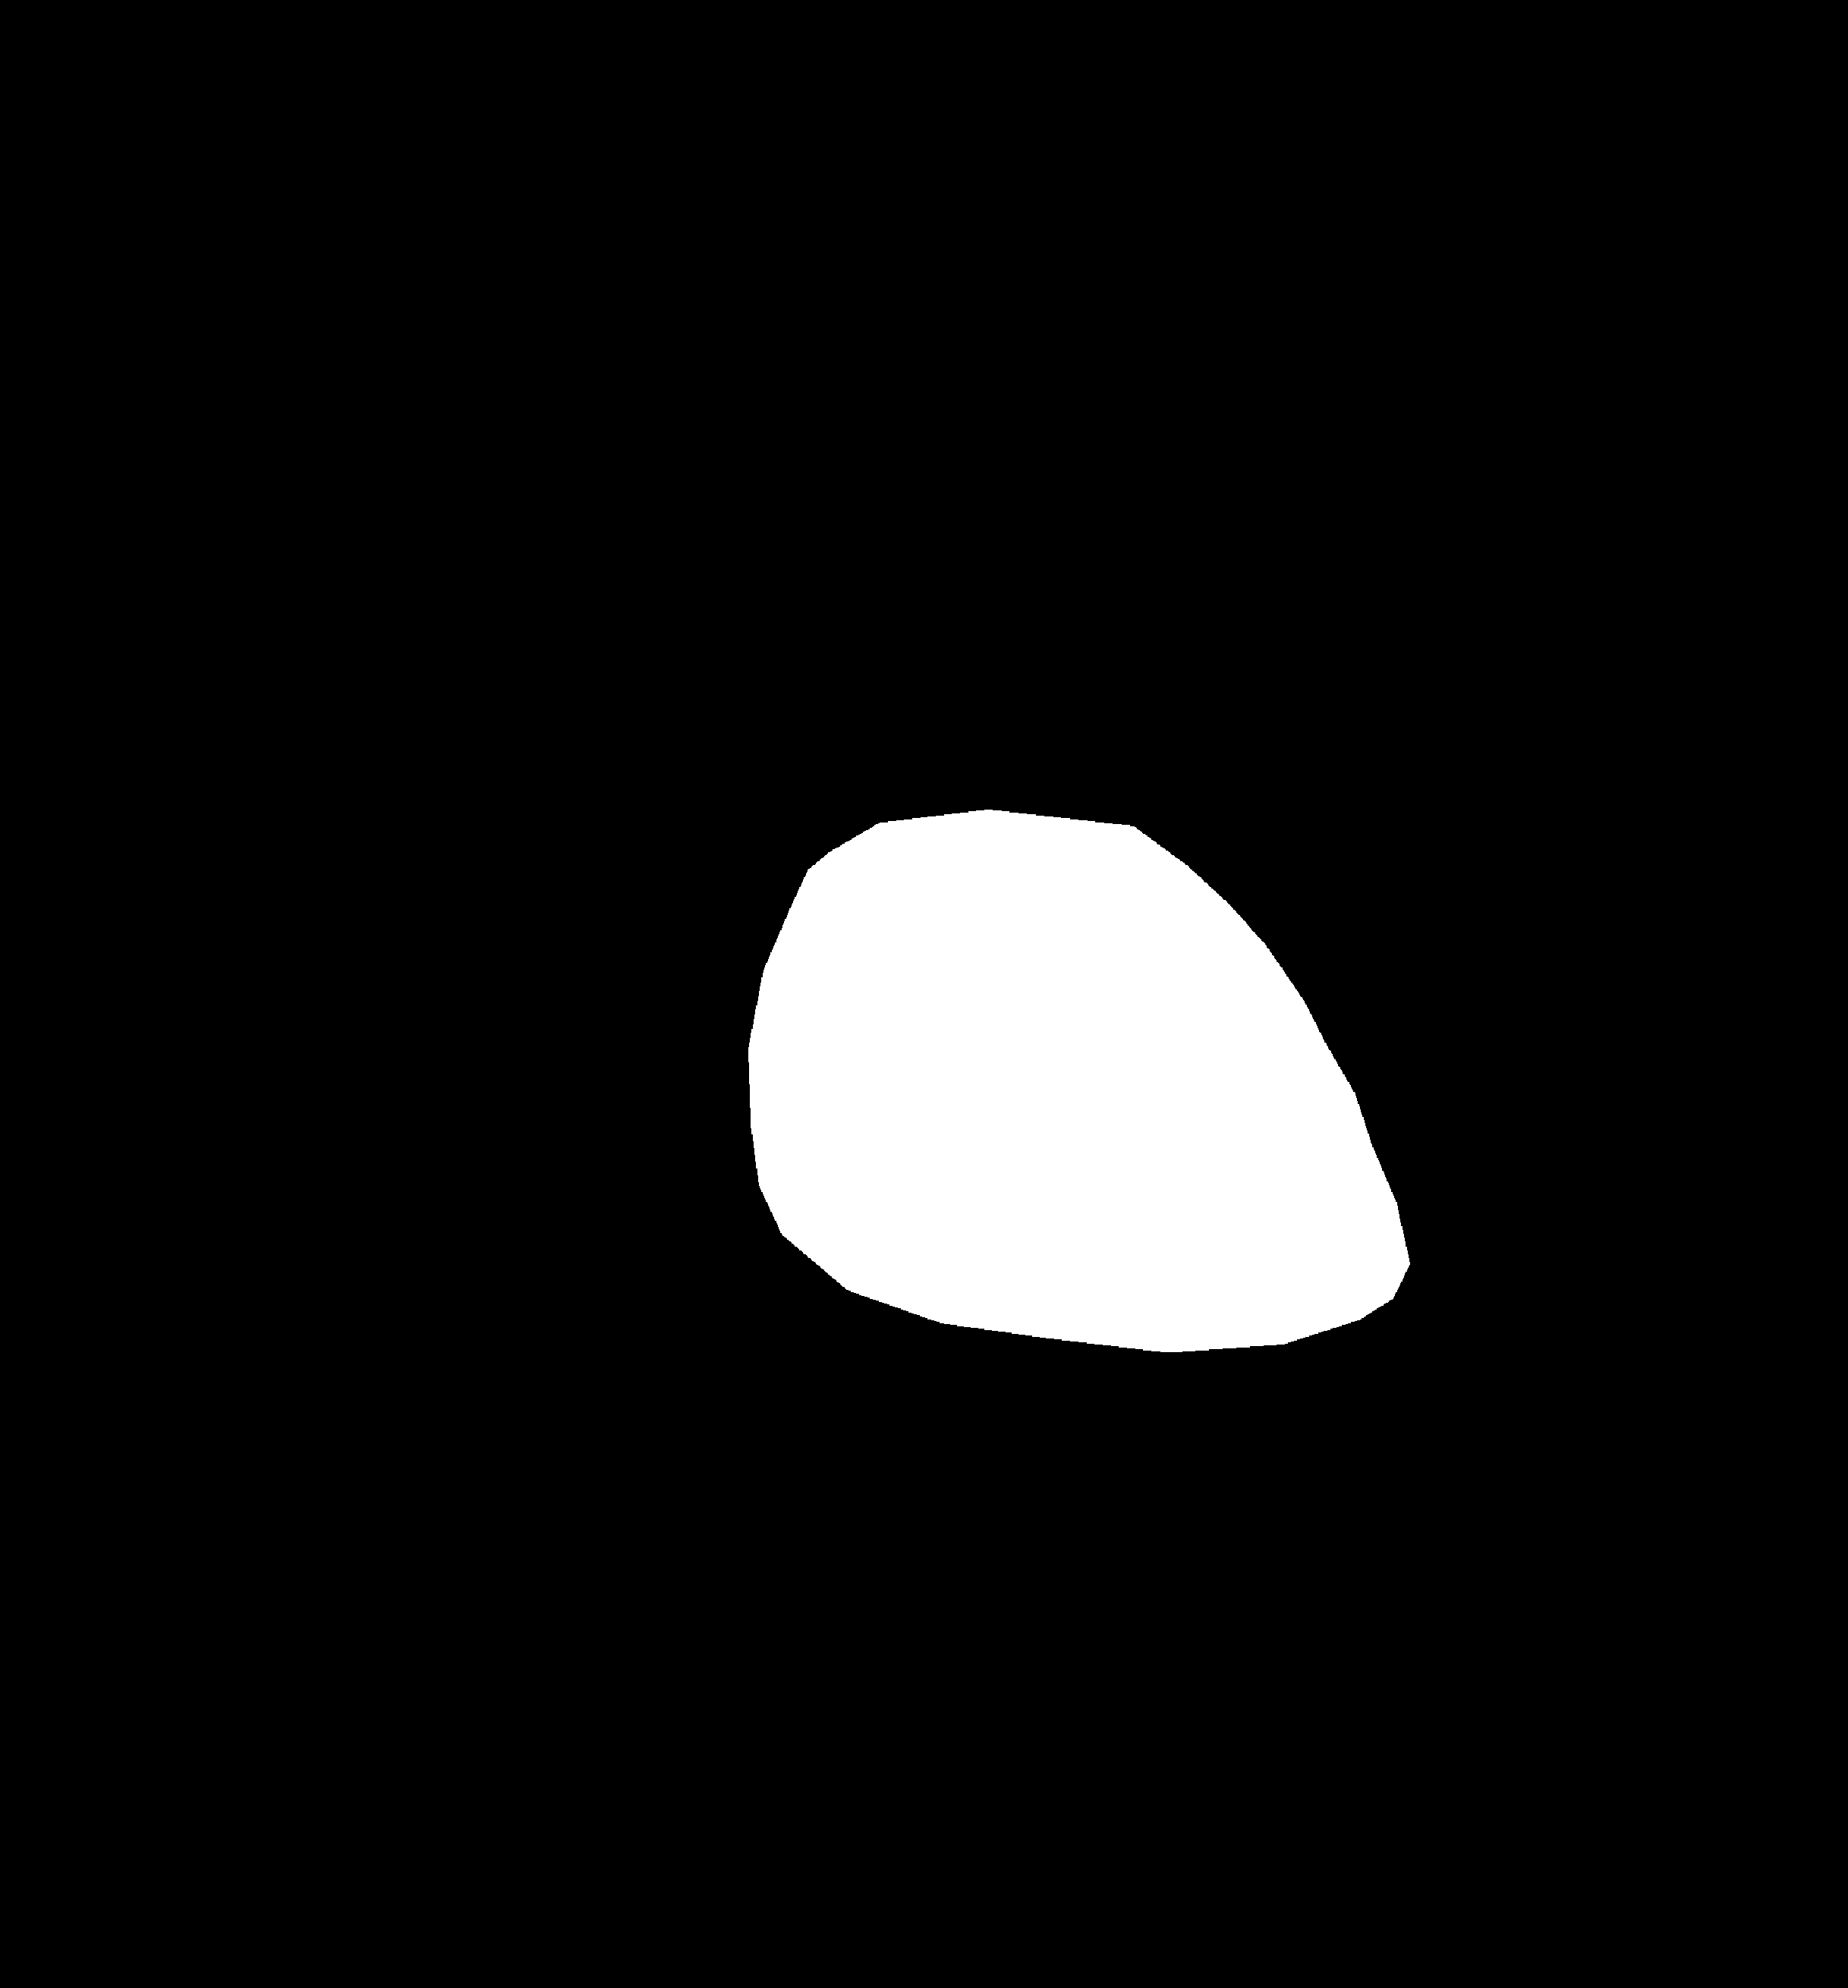heart: (759, 852, 1433, 1387)
left_lung: (266, 208, 875, 1467)
right_lung: (1063, 168, 1601, 1380)
